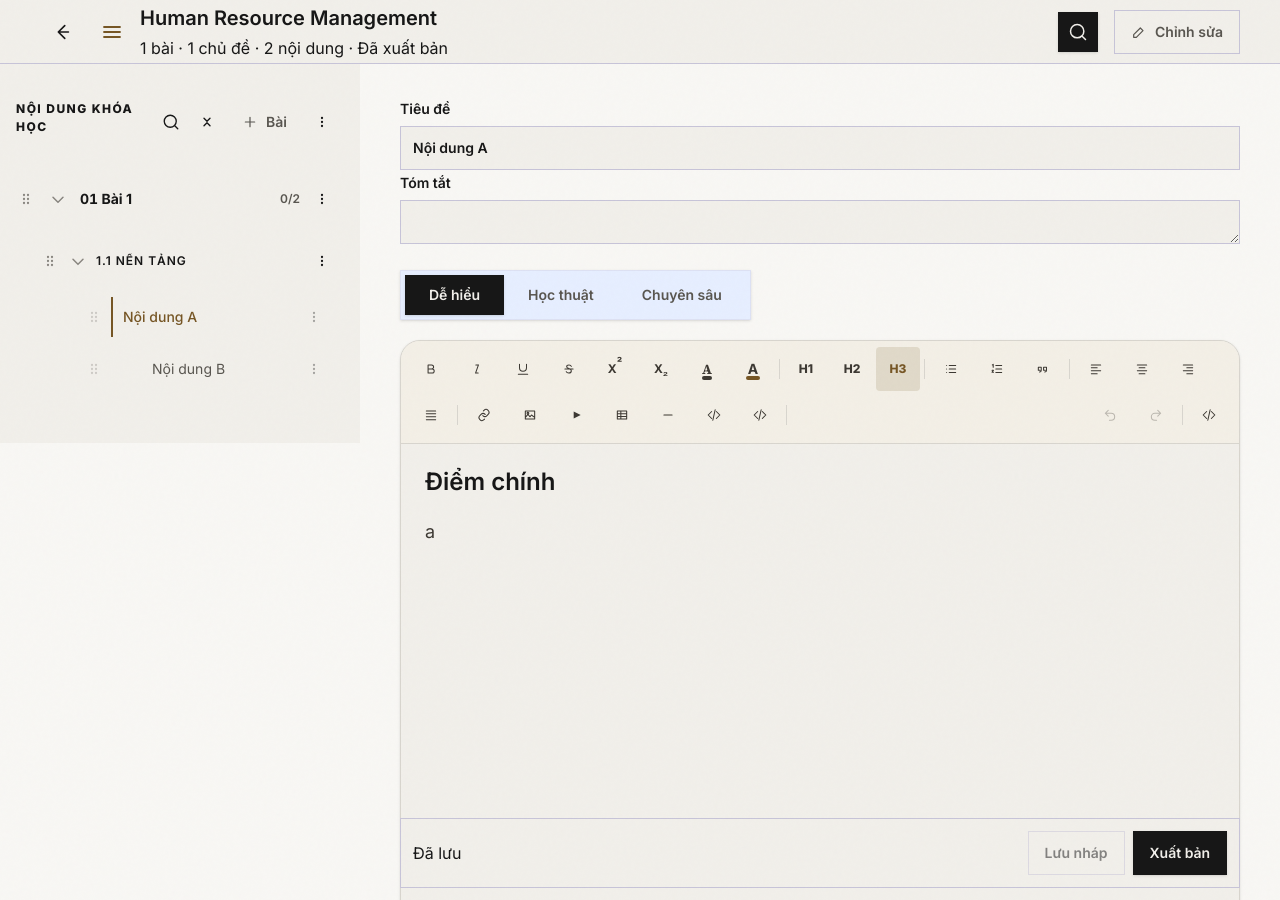
CourseWorkspace edit-mode cache › lets authors collapse lessons and sections in edit mode
Expected: the field labelled "Tiêu đề" is shown, top-left (400, 126), bottom-right (1240, 170)
Expected: the navigation bar with test id "my-class-outline" is shown, top-left (0, 64), bottom-right (360, 443)
Click the button with aria-label "Thu gọn phần 1.1" at (184, 261), box top-left (68, 241), bottom-right (300, 281)
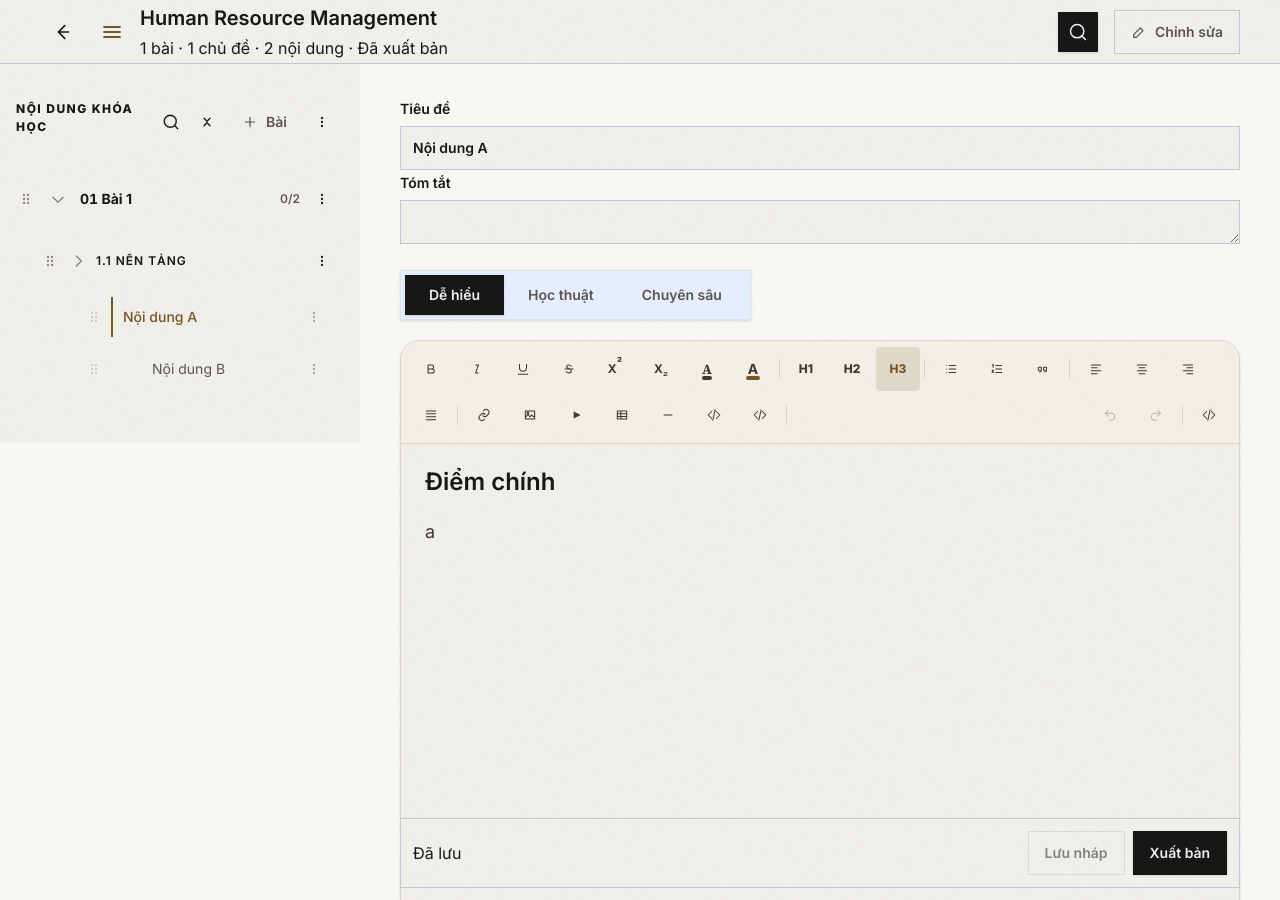
Expected: the button with aria-label "Mở phần 1.1" is collapsed, top-left (68, 241), bottom-right (300, 281)
Click the button named "Thu gọn tất cả" at (207, 122), box top-left (193, 108), bottom-right (221, 136)
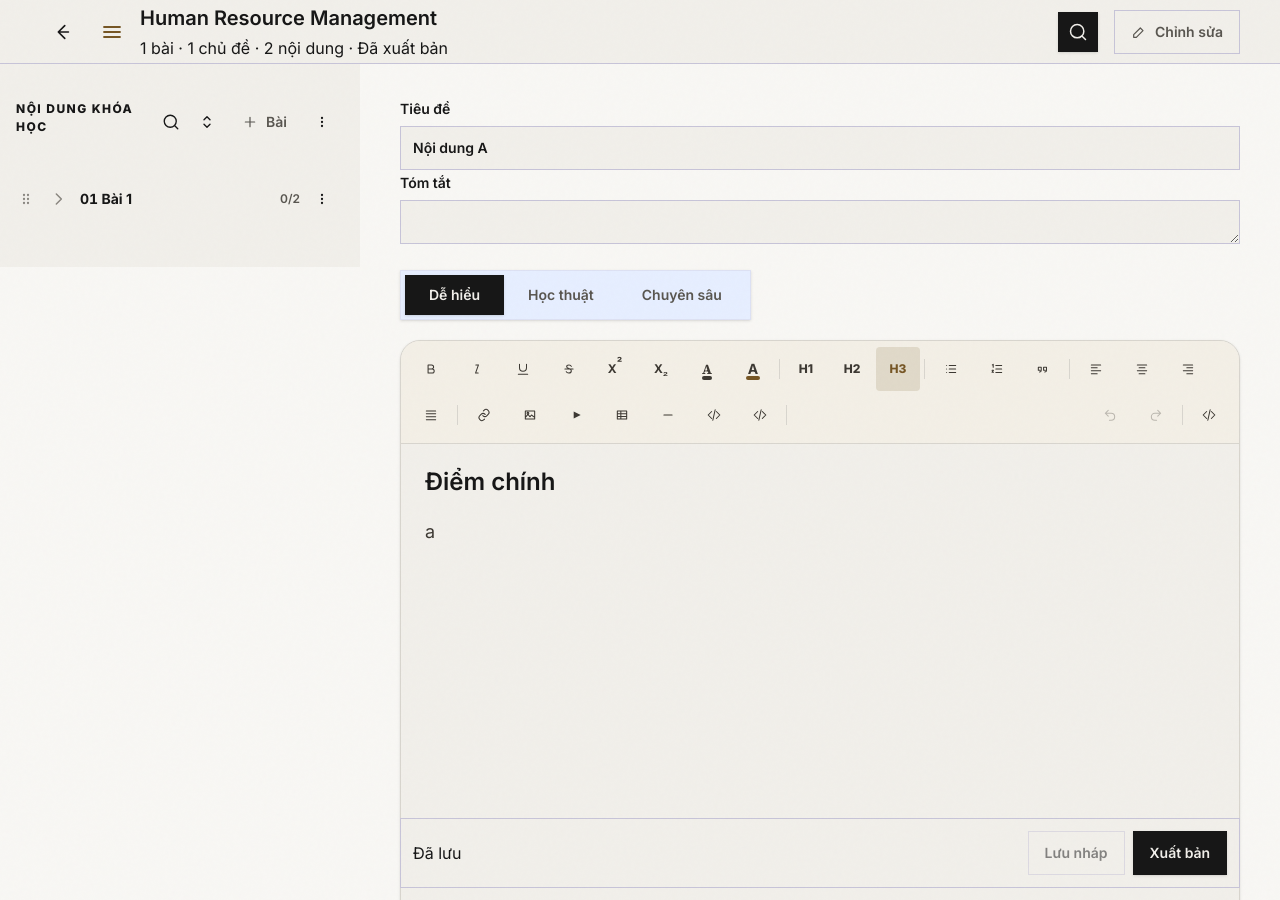
Expected: the button named "Mở tất cả" is shown, top-left (193, 108), bottom-right (221, 136)
Expected: the button named "Mở Bài 1" is collapsed, top-left (44, 185), bottom-right (72, 213)
